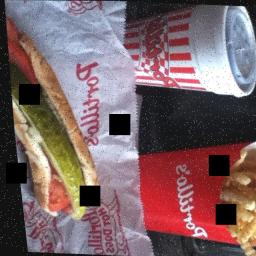hotdog: (4, 10, 28, 42), (54, 200, 72, 218)
